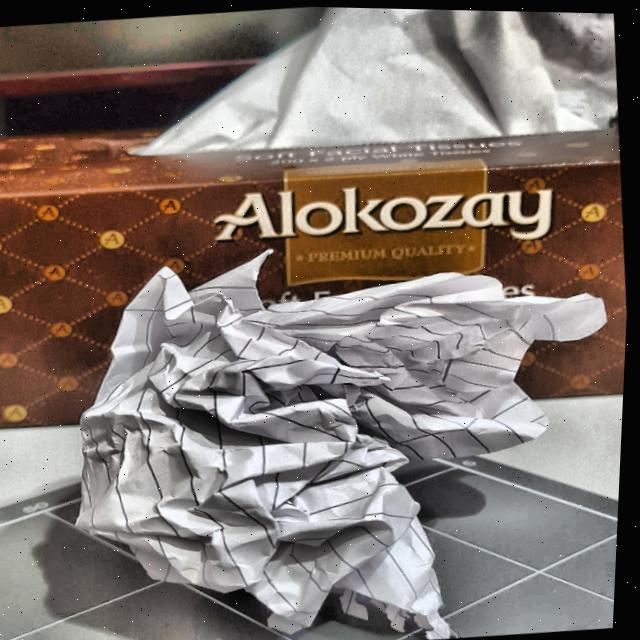paper: (23, 240, 632, 640)
